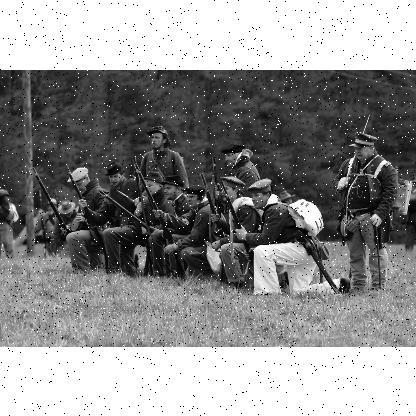gun: (134, 163, 184, 277)
